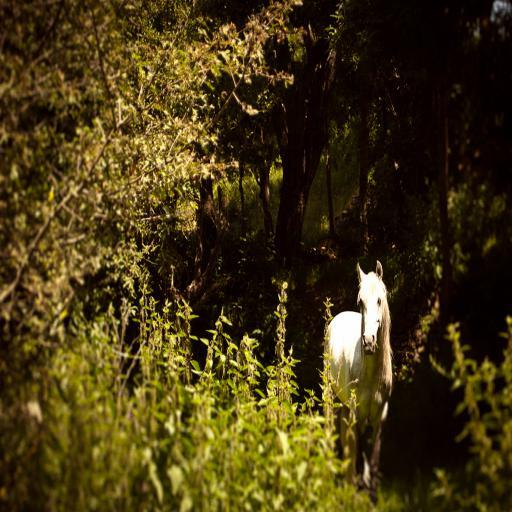Horse: (322, 261, 396, 495)
